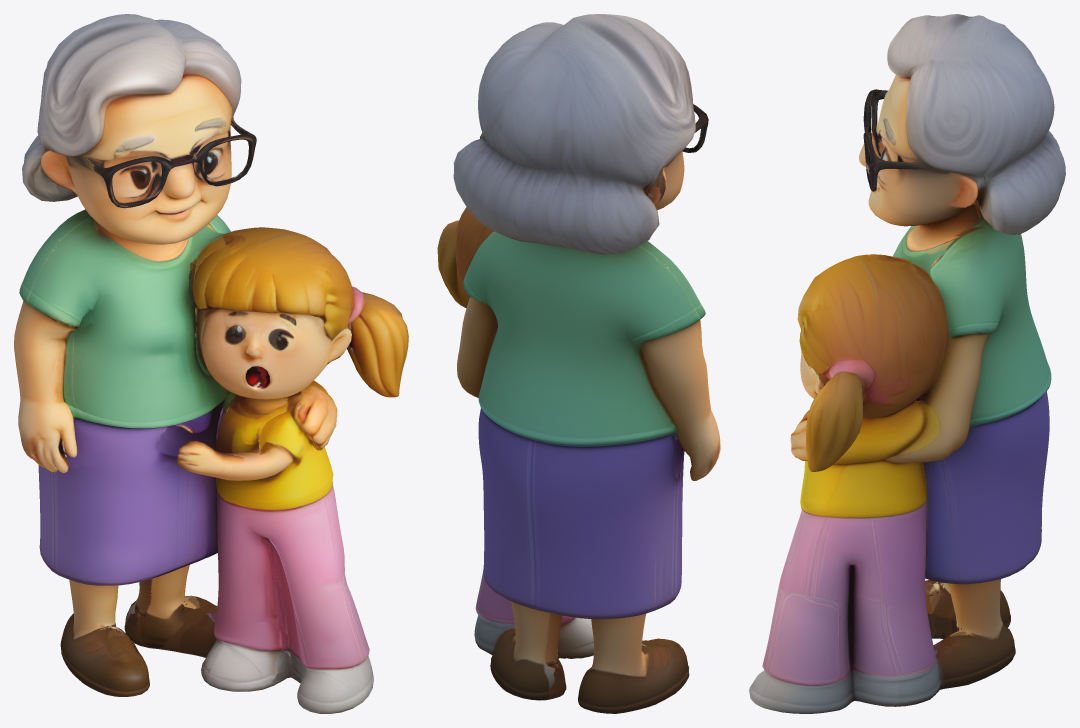
File: niñayabuela.glb
The picture shows the model from 3 angles, left to right: view 1: azimuth 30°, elevation 25°; view 2: azimuth 150°, elevation 25°; view 3: azimuth 270°, elevation 25°; orthographic projection. The views are drawn at different scales.
Parts seen in each view (by area): view 1: model; view 2: model; view 3: model.
Boxes of the visible parts, x1,y1,x2,y2 form: model: (14, 14, 408, 713); model: (437, 14, 720, 713); model: (749, 14, 1065, 713).
Bounding box in the file's own units: 0.9974 × 1.9 × 0.8742.
Materials: 1 (1 with a texture image).
